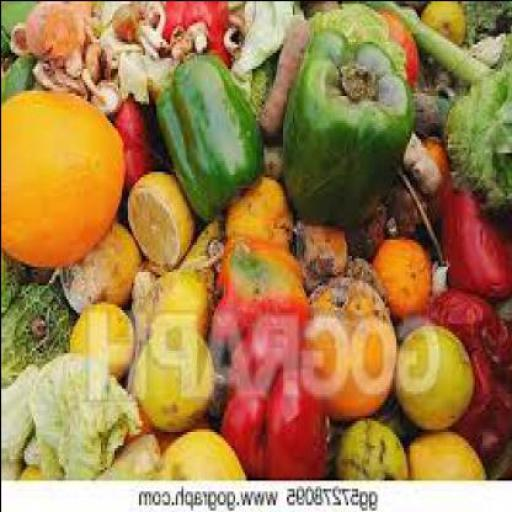biodegradable: (0, 1, 511, 479), (284, 24, 418, 225), (1, 84, 127, 266), (159, 46, 267, 216), (29, 346, 142, 474), (306, 268, 399, 418), (207, 292, 315, 414), (221, 358, 332, 474), (447, 18, 511, 207), (370, 1, 498, 79), (126, 319, 215, 423), (440, 168, 510, 296), (394, 319, 476, 428), (452, 344, 510, 476), (2, 278, 74, 384), (61, 214, 142, 304), (308, 1, 411, 68), (128, 168, 196, 263), (230, 2, 305, 88), (111, 92, 165, 201), (135, 260, 218, 330), (263, 14, 311, 130), (221, 230, 305, 296), (434, 282, 511, 352), (224, 173, 294, 249), (150, 420, 248, 474), (372, 230, 436, 312), (69, 300, 134, 377), (334, 412, 408, 474), (2, 358, 39, 474), (158, 2, 232, 60), (293, 216, 349, 286), (92, 423, 162, 477), (180, 212, 225, 295), (408, 428, 488, 474), (27, 2, 89, 60), (164, 1, 232, 47), (404, 131, 451, 187), (349, 198, 391, 260), (458, 1, 511, 48), (386, 174, 428, 228), (114, 1, 168, 43), (2, 1, 40, 54), (86, 59, 128, 106), (345, 252, 387, 298), (422, 1, 468, 43), (25, 426, 65, 474), (250, 49, 276, 116), (2, 51, 35, 103), (1, 252, 31, 309), (122, 44, 152, 100), (414, 87, 452, 130), (88, 24, 122, 68), (34, 62, 88, 89), (134, 260, 161, 309), (414, 66, 462, 92), (88, 1, 120, 38), (148, 49, 174, 84), (224, 6, 246, 46), (188, 11, 213, 43), (84, 38, 104, 76), (264, 141, 286, 173), (13, 16, 29, 48), (174, 24, 194, 49), (24, 460, 46, 474), (400, 1, 428, 8)
